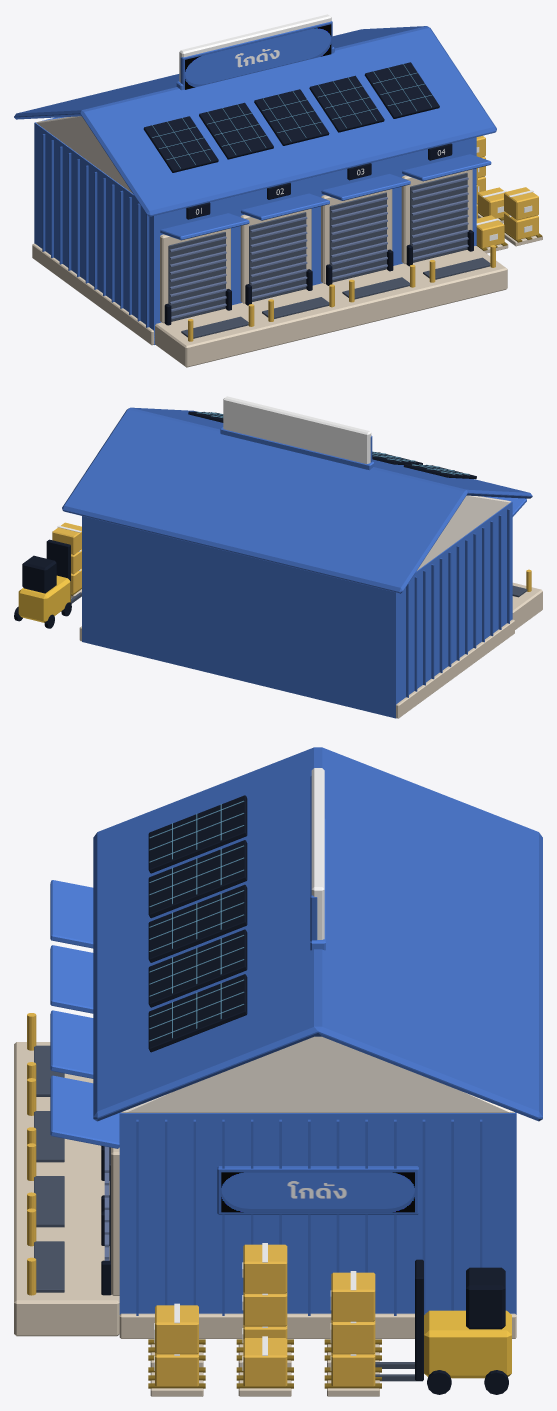
The model's file is town-warehouse.glb.
3 views of the same model, one above another, from view 1: azimuth 30°, elevation 25°; view 2: azimuth 150°, elevation 25°; view 3: azimuth 270°, elevation 25° (orthographic). The views are drawn at different scales.
Visible parts, largest first — view 1: BODY_Warehouse, ROOF_GEOMETRY_Warehouse; view 2: BODY_Warehouse, ROOF_GEOMETRY_Warehouse; view 3: ROOF_GEOMETRY_Warehouse, BODY_Warehouse.
Part boxes in pixels (bbox=[...]): BODY_Warehouse: bbox=[32, 117, 542, 367]; ROOF_GEOMETRY_Warehouse: bbox=[14, 14, 496, 216]; BODY_Warehouse: bbox=[14, 496, 542, 718]; ROOF_GEOMETRY_Warehouse: bbox=[62, 396, 532, 593]; ROOF_GEOMETRY_Warehouse: bbox=[93, 747, 542, 1121]; BODY_Warehouse: bbox=[14, 880, 516, 1396].
Size of the model in its own units: 17.9 by 9.5 by 12.
Materials: 17 (1 with a texture image).
